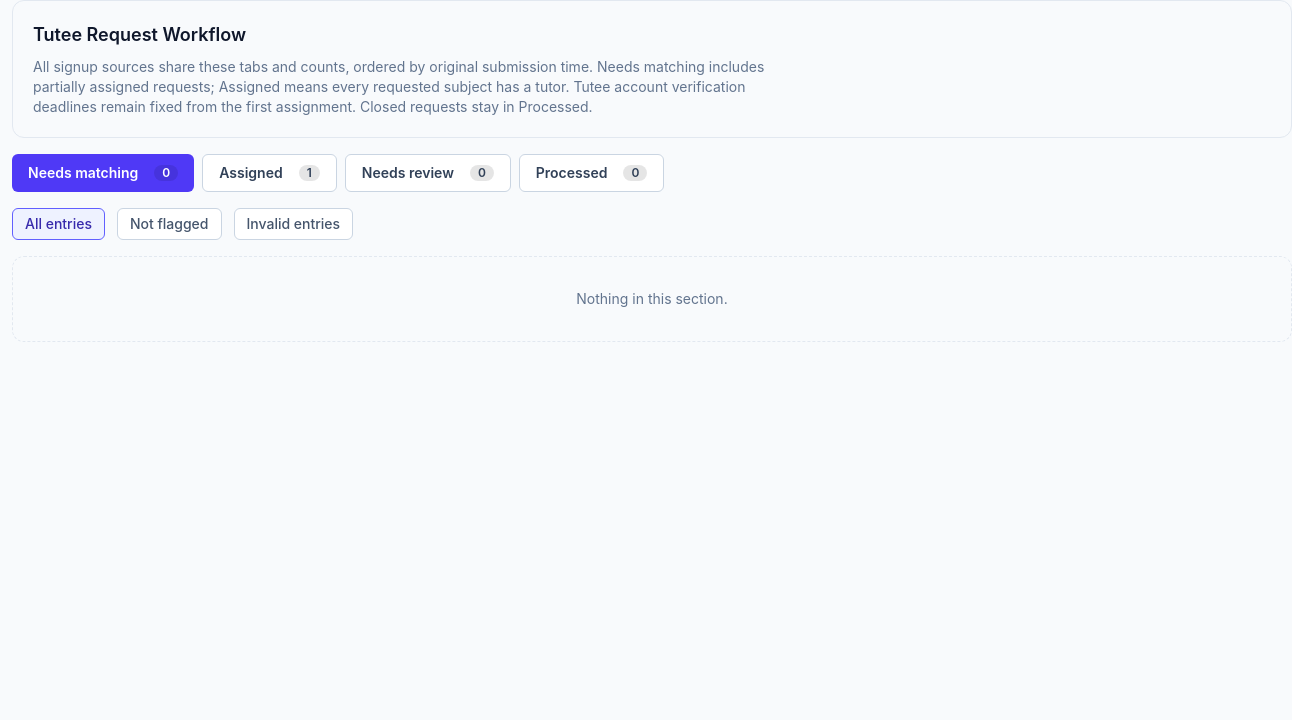
Test: retains prior assignment evidence for an invalid request
This screenshot has width=1292, height=720.
Click the tab "Assigned 1" at (269, 173), box [202,154,337,192]
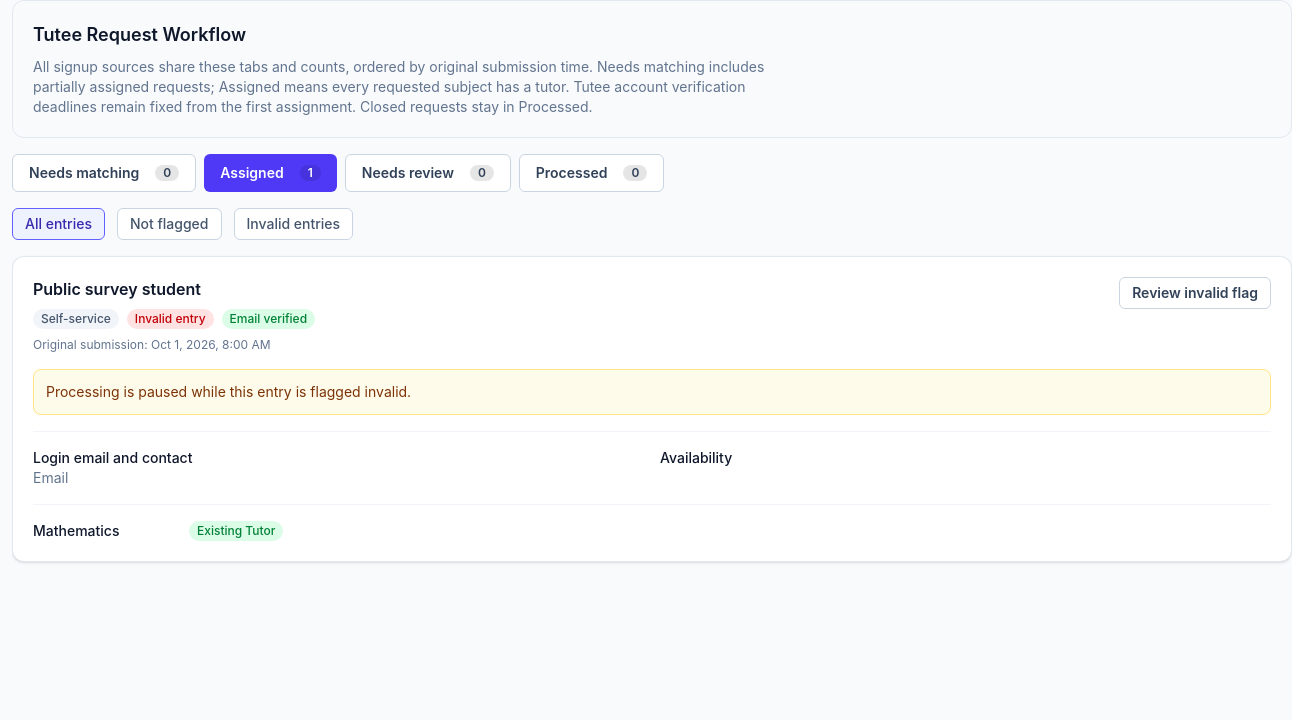
Result: the text "Existing Tutor" is shown at [189,521,283,541]
Result: the text "Invalid entry" is shown at [127,309,214,329]
